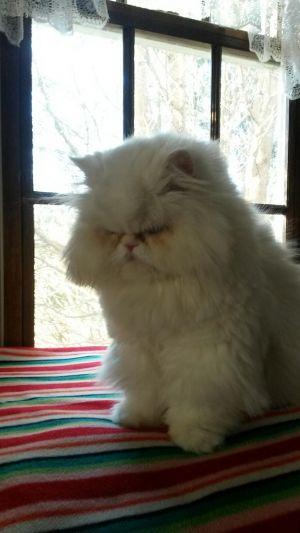persian: (56, 127, 245, 301)
